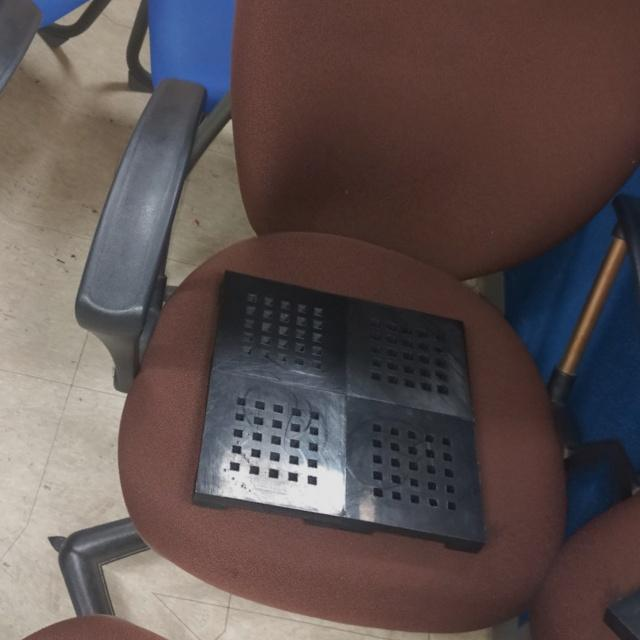pallet: (183, 269, 492, 553)
